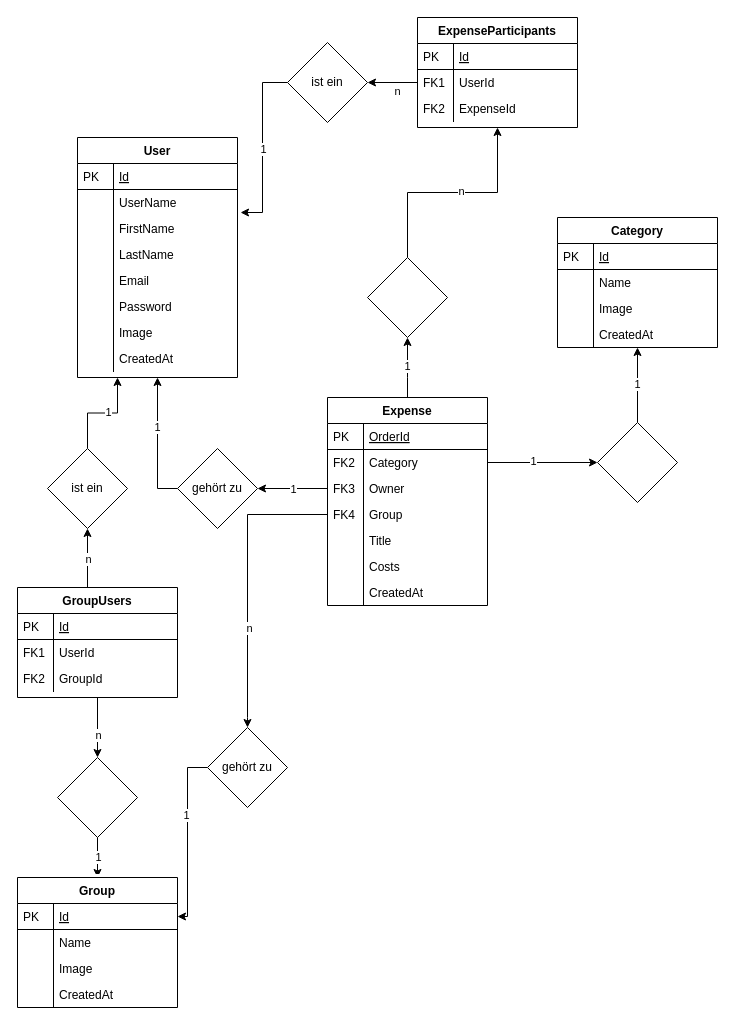
Some shapes in this 735 by 1028 pixel diagram are drawn without their labels. The centre of each missing label's shape, as x and y in pixels:
besitzt: pixel 637 462
besteht aus: pixel 97 797
betrifft: pixel 407 297
